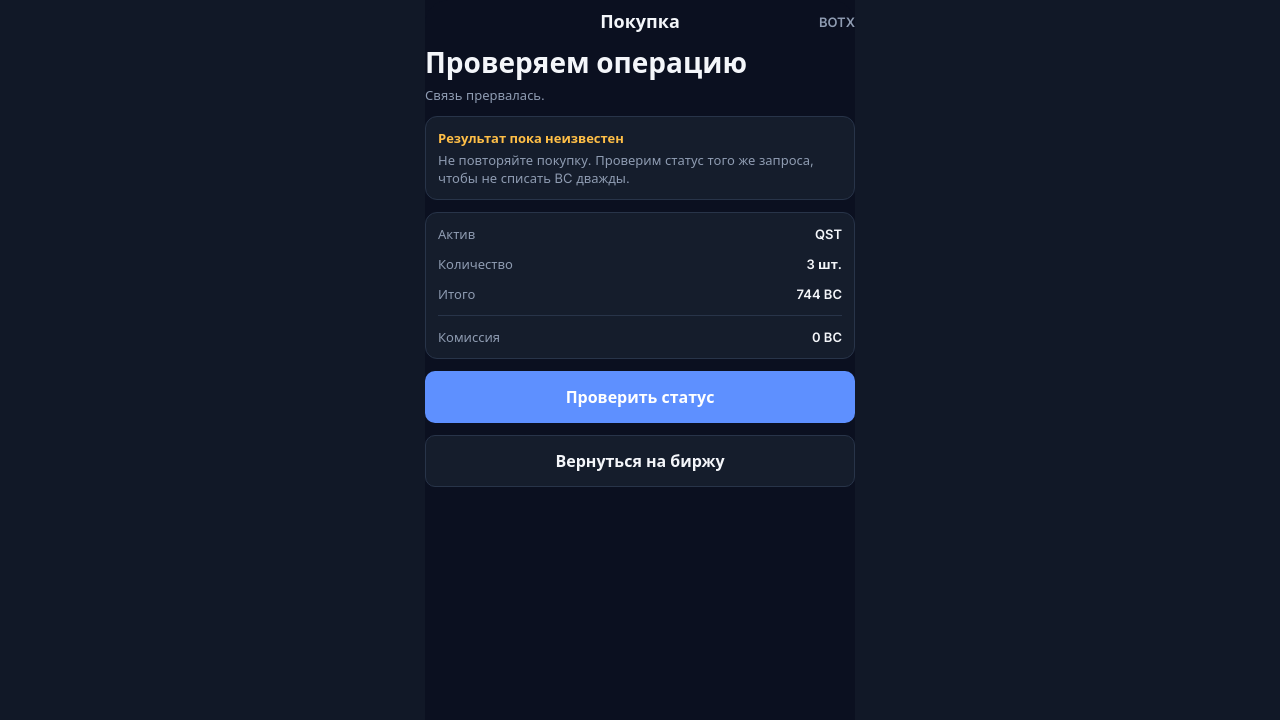
it: TradeSheet › reports a failed status check and retries the original request without another trade
Later steps or results of the test are not shown.
Click the button "Проверить статус". click: (640, 397)
box: x1=425 y1=371 x2=855 y2=423
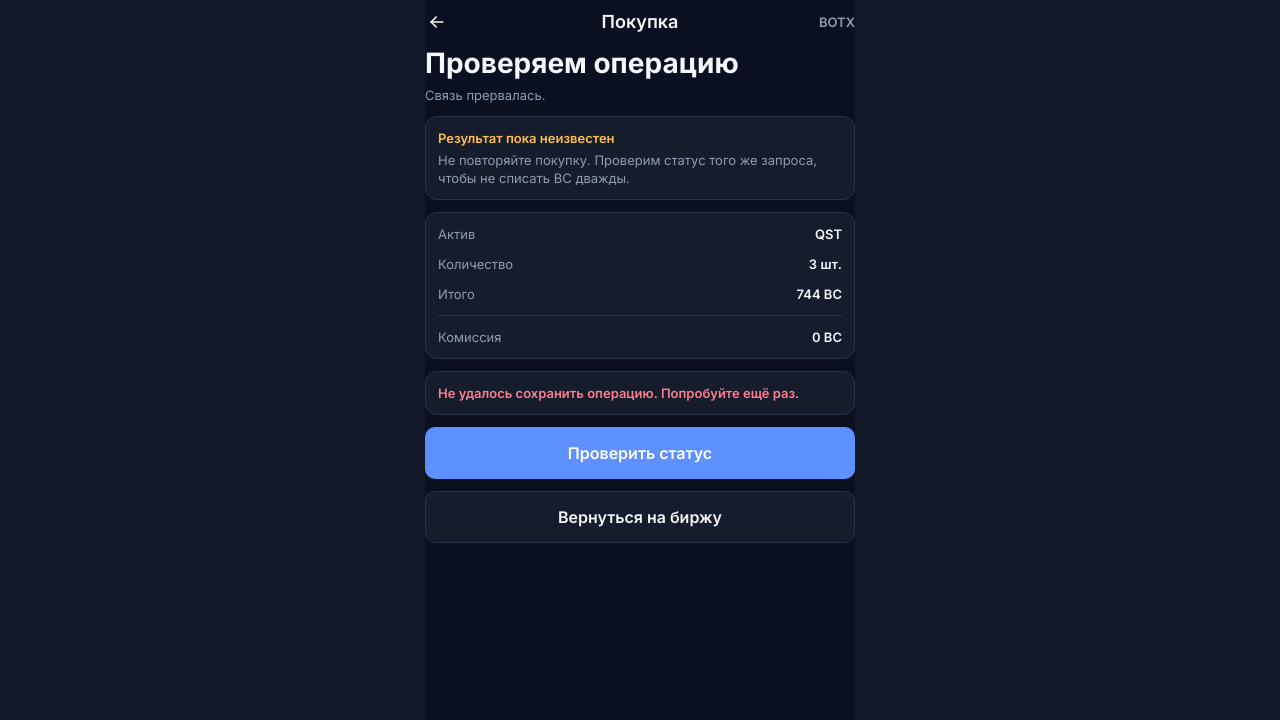
Expected: the button "Проверить статус" is enabled, x1=425 y1=427 x2=855 y2=479
Expected: the text "Не удалось сохранить операцию. Попробуйте ещё раз." is shown, x1=438 y1=384 x2=842 y2=402
